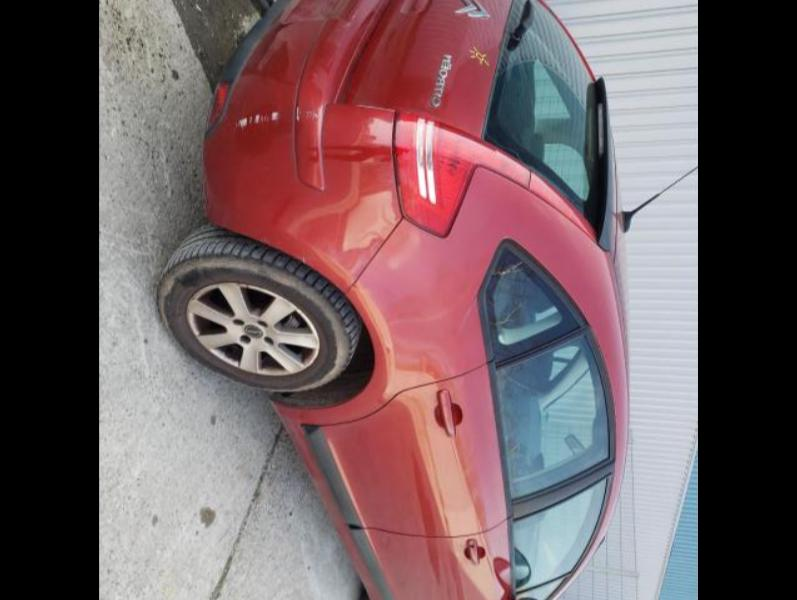Cracked: (484, 250, 574, 352)
Missing part: (292, 0, 339, 14)
Scratch: (210, 204, 286, 248), (234, 106, 322, 128), (296, 250, 310, 264)
